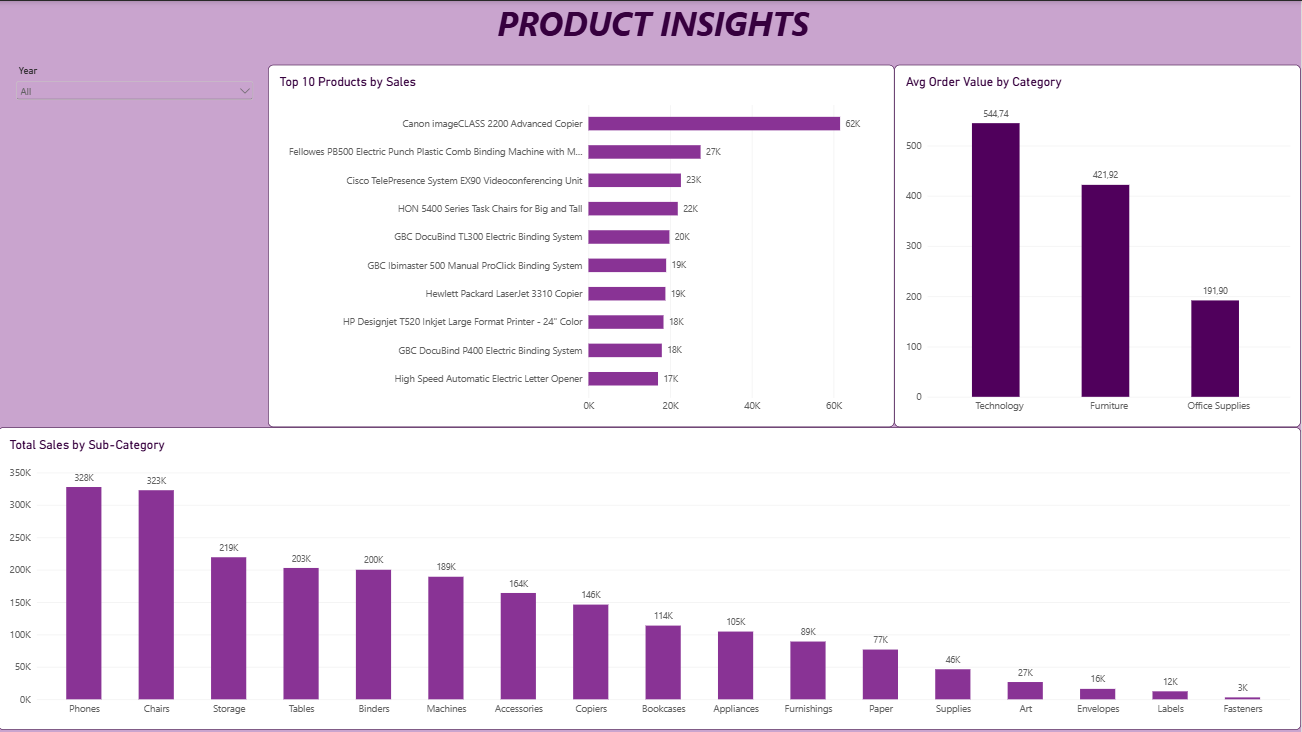

The page's visual inventory and layout, read from the dashboard file:
{"tool":"powerbi","page":{"name":"Product Insights","canvas":[1920,1080],"ordinal":1},"visuals":[{"type":"textbox","box":[9.2,0,1910.4,93.9],"z":0},{"type":"columnChart","title":"Total Sales by Sub-Category","fields":{"Category":["Dim_Product.Sub-Category","Dim_Product.Category"],"Y":["Measures (2).Total Sales"]},"box":[0,627.6,1919.6,445.4],"z":1},{"type":"clusteredBarChart","title":"Top 10 Products by Sales","fields":{"Category":["Dim_Product.Product Name"],"Y":["Measures (2).Total Sales"]},"box":[397.5,93.9,922.1,533.7],"z":2},{"type":"clusteredColumnChart","fields":{"Category":["Dim_Product.Category"],"Y":["Measures (2).Avg Order Value"]},"box":[1319.6,93.9,600,533.7],"z":3},{"type":"slicer","fields":{"Values":["Dim_Date.Year"]},"box":[22.1,93.9,358.9,476.7],"z":4}]}

Visuals, with their boxes in screenshot pixels (x1, y1, x2, y2), scaled from the page's 1920x1080 canvas onto the 1302x732 screenshot:
textbox: BBox(6, 0, 1301, 64)
"Total Sales by Sub-Category" columnChart: BBox(0, 425, 1301, 727)
"Top 10 Products by Sales" clusteredBarChart: BBox(270, 64, 895, 425)
clusteredColumnChart - Dim_Product.Category x Measures (2).Avg Order Value: BBox(895, 64, 1301, 425)
slicer - Dim_Date.Year: BBox(15, 64, 258, 387)
